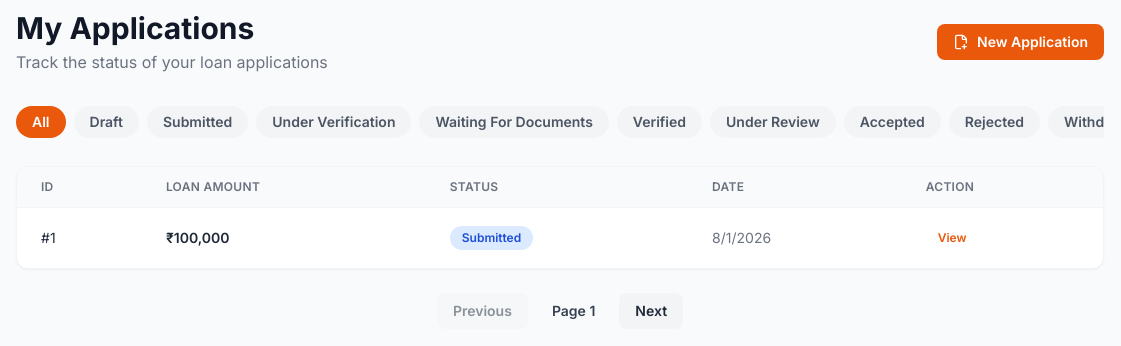
Scenario: MyApplications — pagination › disables Previous on page 1 and fetches page 2 on Next
Expected: the text "#1" is shown, top-left (17, 208), bottom-right (142, 268)
Expected: the button "Previous" is disabled, top-left (437, 293), bottom-right (528, 329)
Click the button "Next": (651, 311) top-left (619, 293), bottom-right (683, 329)
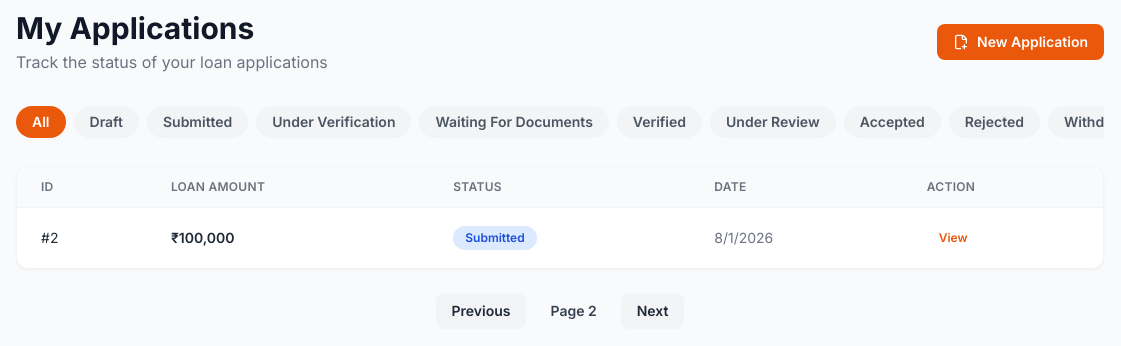
Now the text "Page 2" is shown, box top-left (550, 302), bottom-right (597, 319)
